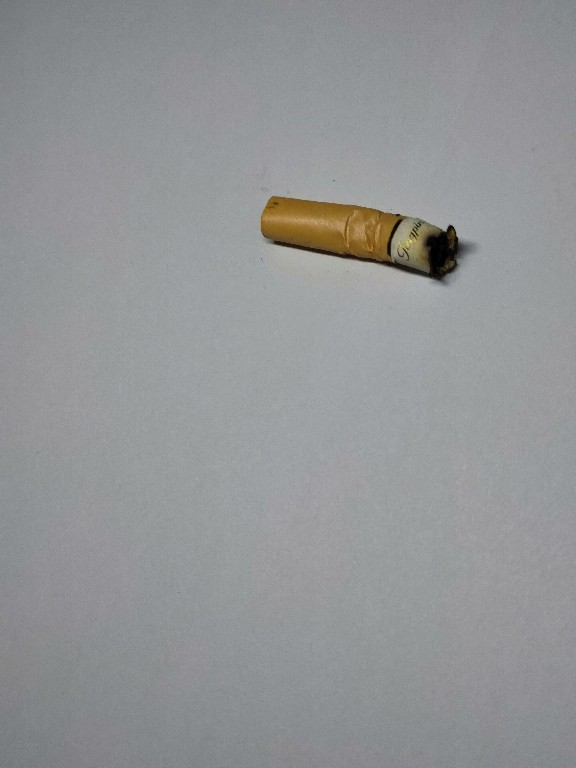cigarette: (253, 189, 463, 283)
